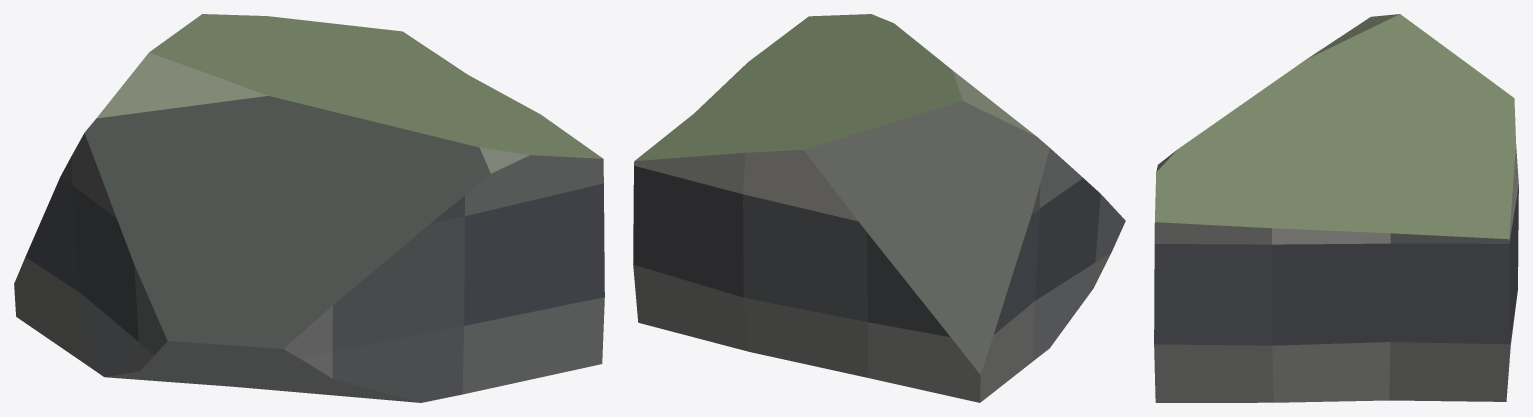
3 views of the same model, side by side, from view 1: azimuth 30°, elevation 25°; view 2: azimuth 150°, elevation 25°; view 3: azimuth 270°, elevation 25° (orthographic). The views are drawn at different scales.
Visible parts, largest first — view 1: env_rock_small; view 2: env_rock_small; view 3: env_rock_small.
Part boxes in pixels (x1,y1,x2,y2): env_rock_small: [14, 14, 604, 402]; env_rock_small: [633, 14, 1125, 402]; env_rock_small: [1154, 14, 1518, 402].
Bounding box in the file's own units: 0.8688 × 0.5866 × 0.7655.
